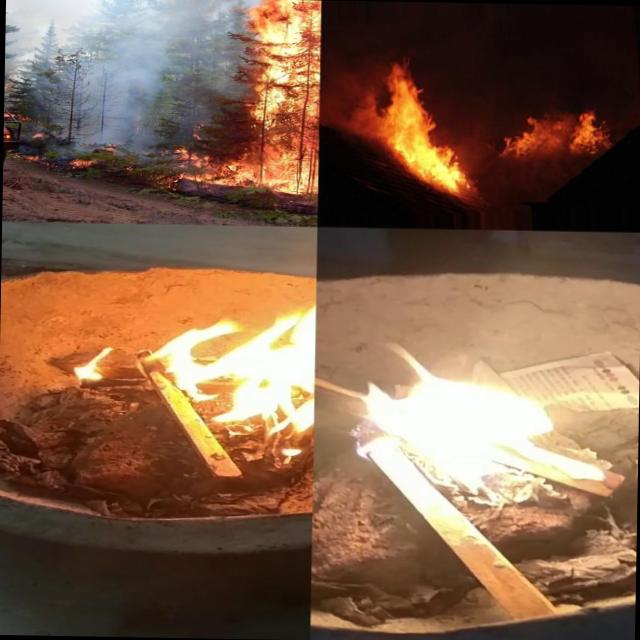fire: (58, 222, 316, 452), (321, 336, 619, 520), (239, 0, 321, 205), (497, 108, 612, 165), (376, 53, 438, 141), (388, 140, 471, 192), (170, 148, 238, 186), (64, 155, 114, 171), (12, 148, 50, 164)
smoke: (65, 0, 242, 148), (4, 0, 67, 93), (318, 83, 376, 137)
